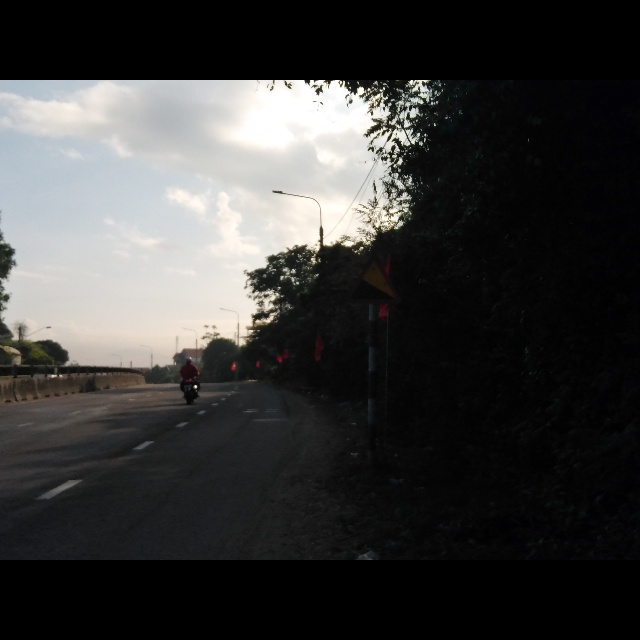Dốc lên nguy hiểm: (345, 250, 404, 306)
